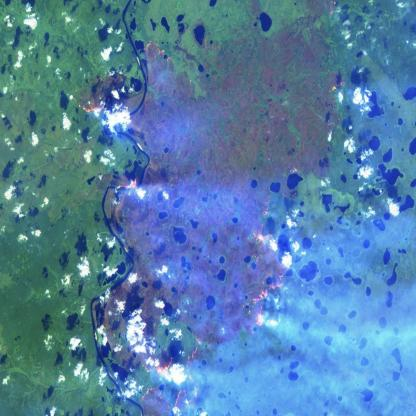fire: (139, 325, 208, 416), (250, 198, 296, 330), (71, 72, 108, 123), (137, 35, 173, 67), (327, 57, 345, 98), (321, 0, 343, 19)
